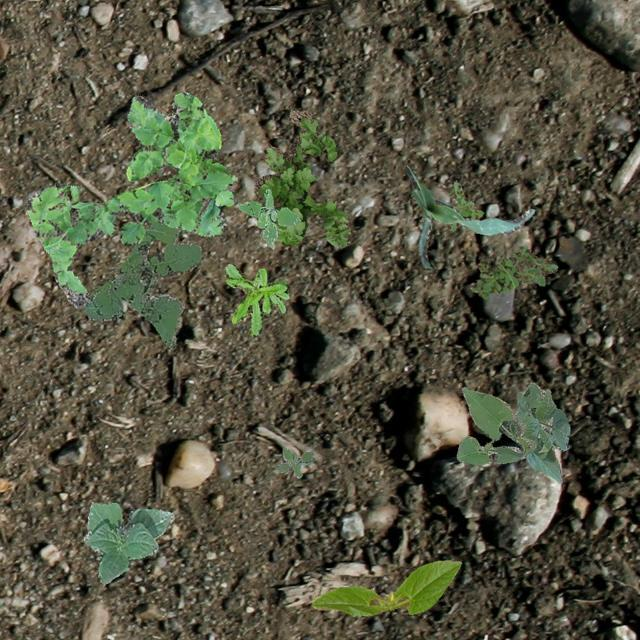crop: (404, 165, 534, 266), (456, 382, 568, 482), (310, 558, 460, 616), (82, 502, 174, 584)
weed: (25, 90, 236, 306), (82, 218, 200, 348), (252, 110, 350, 246), (469, 245, 556, 298), (224, 264, 288, 336), (236, 188, 300, 248), (447, 182, 482, 230), (274, 446, 312, 476)
